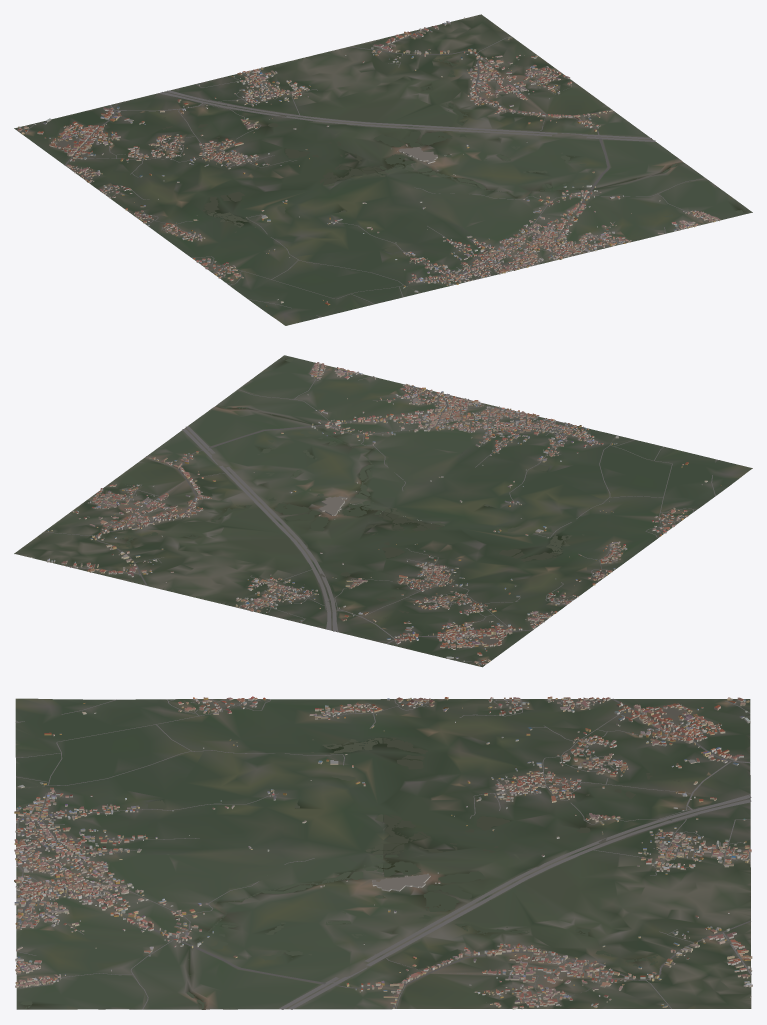
3 views of the same model, one above another, from view 1: azimuth 30°, elevation 25°; view 2: azimuth 150°, elevation 25°; view 3: azimuth 270°, elevation 25° (orthographic). The views are drawn at different scales.
Visible parts, largest first — view 1: ground, buildings, roads, water; view 2: ground, buildings, roads, water; view 3: ground, buildings, roads, water.
Part boxes in pixels (bbox=[...]): ground: bbox=[14, 14, 752, 325]; buildings: bbox=[17, 17, 720, 306]; roads: bbox=[26, 27, 720, 317]; water: bbox=[162, 57, 749, 253]; ground: bbox=[14, 355, 752, 667]; buildings: bbox=[31, 362, 721, 665]; roads: bbox=[43, 364, 719, 662]; water: bbox=[117, 357, 583, 618]; ground: bbox=[15, 698, 751, 1009]; buildings: bbox=[14, 696, 752, 1009]; roads: bbox=[15, 698, 751, 1009]; water: bbox=[20, 737, 680, 1009].
Size of the model in its own units: 2810 by 23.24 by 2820.
